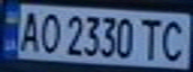0: (115, 15, 139, 61)
2: (60, 11, 84, 56)
3: (81, 12, 103, 59), (100, 14, 121, 58)
A: (15, 8, 42, 53)
C: (157, 16, 190, 63)
O: (36, 10, 63, 54)
T: (136, 16, 163, 61)
